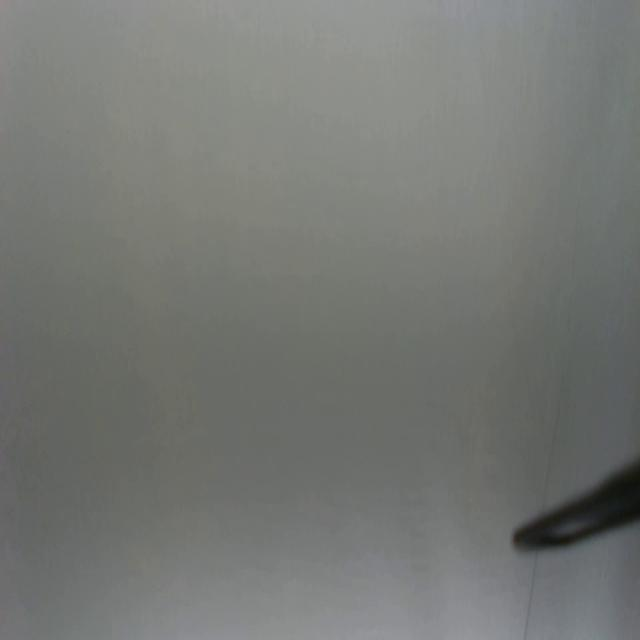crease: (523, 552, 540, 640)
